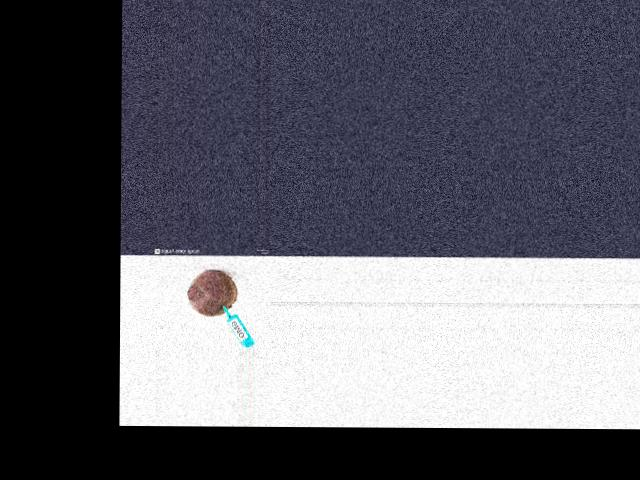beet: (187, 269, 237, 316)
